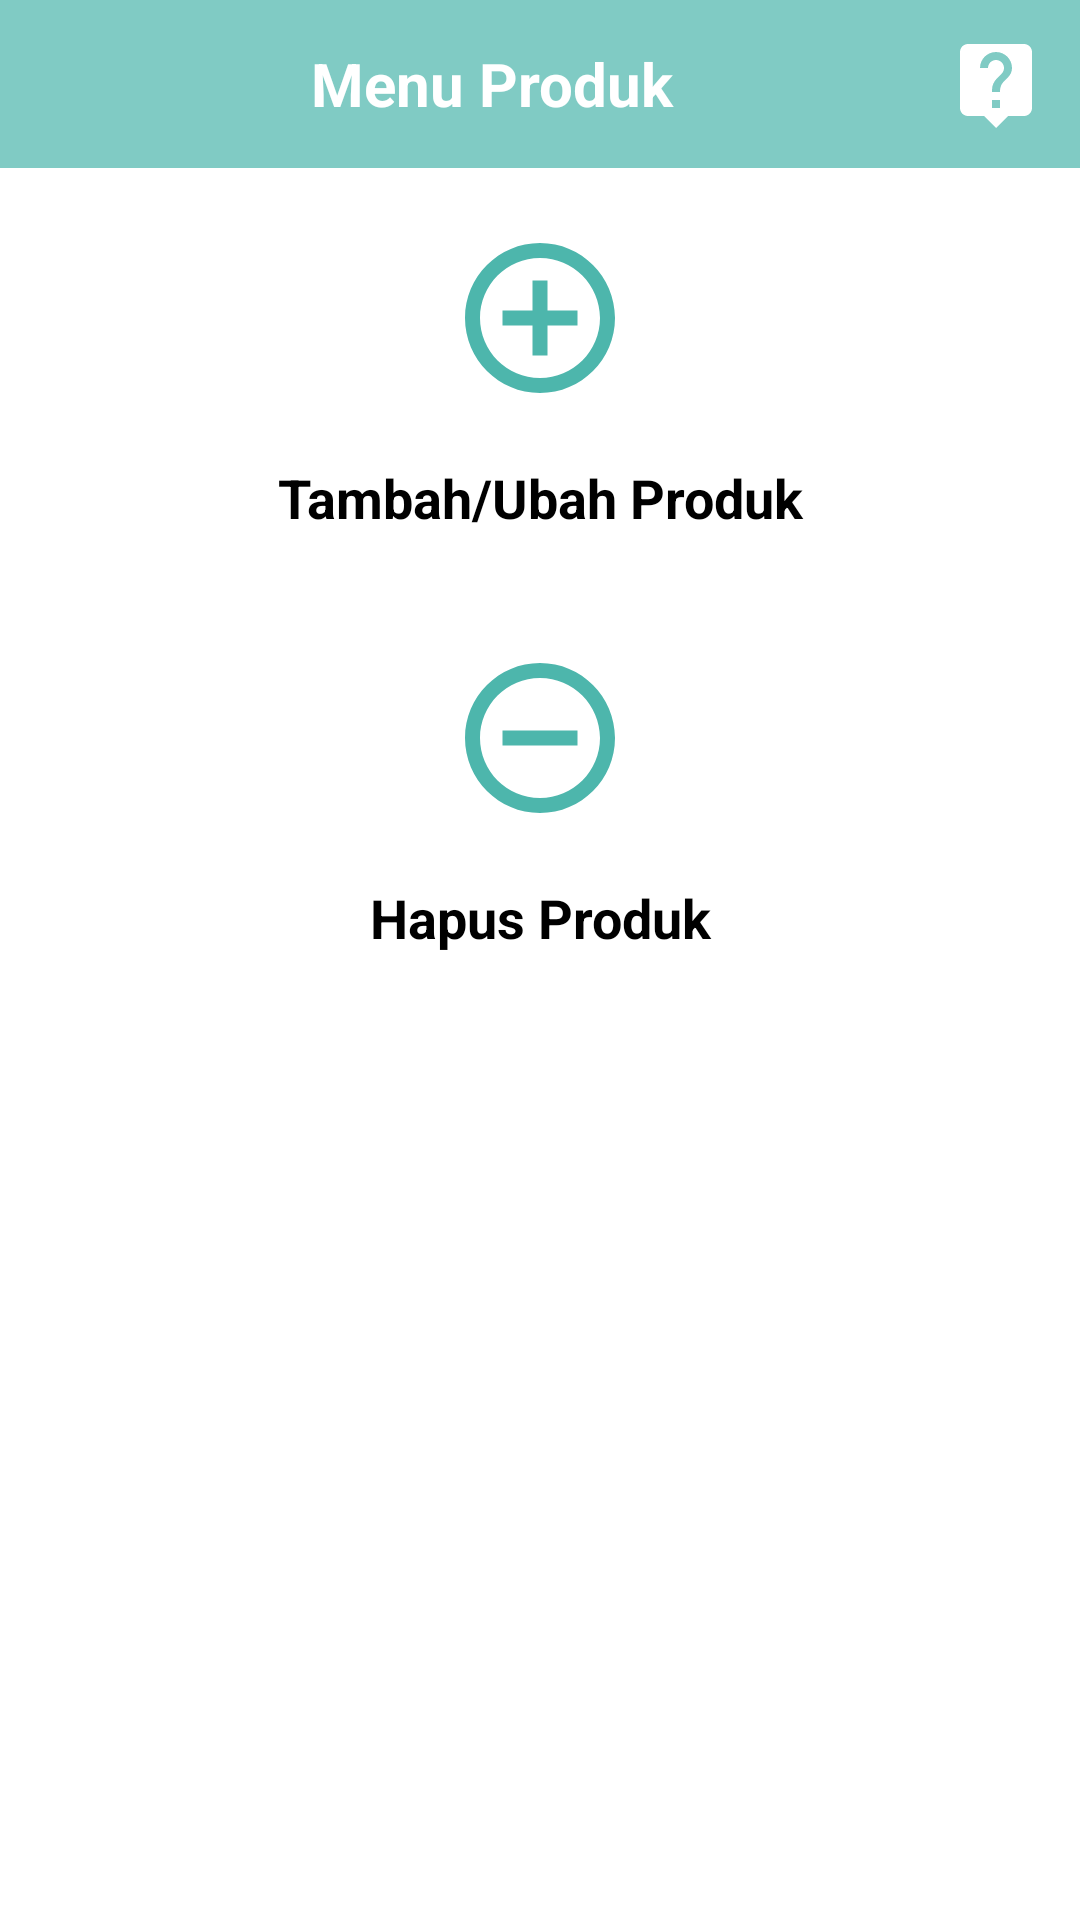

Icon bounding boxes for this 1080 x 1920 phone screenshot, format {"left": x1, "top": y1, "right": x2, "bottom": y2}:
add circle: {"left": 465, "top": 243, "right": 615, "bottom": 393}
live help: {"left": 960, "top": 44, "right": 1032, "bottom": 128}
remove circle: {"left": 465, "top": 663, "right": 615, "bottom": 813}
